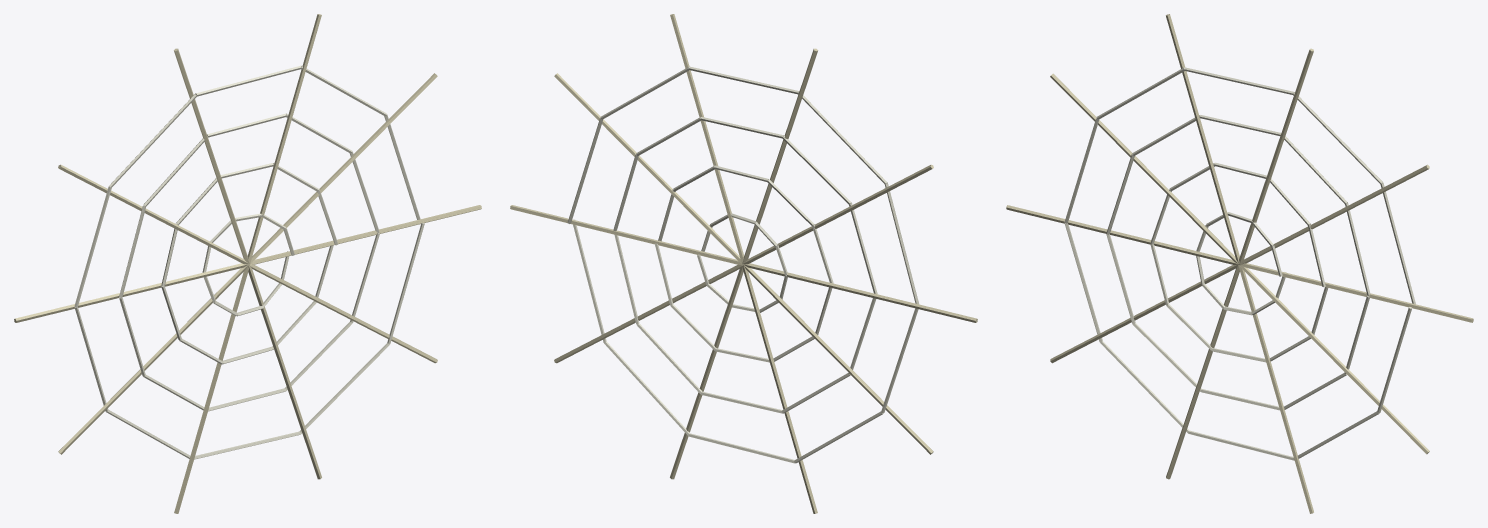
File: spider_web.glb
3 views of the same model, side by side, from view 1: azimuth 30°, elevation 25°; view 2: azimuth 150°, elevation 25°; view 3: azimuth 330°, elevation 25° (orthographic).
Parts seen in each view (by area): view 1: radial_2, radial_1, radial_7, radial_6, radial_0, radial_5, radial_3, radial_8, radial_9, radial_4, strand; view 2: radial_6, radial_1, radial_7, radial_2, radial_5, radial_0, radial_3, radial_8, radial_4, radial_9; view 3: radial_3, radial_8, radial_9, radial_4, radial_0, radial_5, radial_2, radial_7, radial_1, radial_6.
Part boxes in pixels (<box>): radial_2: <box>248,14,321,264</box>; radial_1: <box>250,73,437,264</box>; radial_7: <box>174,264,248,513</box>; radial_6: <box>58,264,248,454</box>; radial_0: <box>249,205,481,265</box>; radial_5: <box>14,263,248,322</box>; radial_3: <box>174,48,249,263</box>; radial_8: <box>248,265,321,479</box>; radial_9: <box>249,264,437,363</box>; radial_4: <box>58,164,249,264</box>; strand: <box>74,186,111,307</box>; radial_6: <box>743,264,933,454</box>; radial_1: <box>554,73,741,264</box>; radial_7: <box>743,264,817,513</box>; radial_2: <box>670,14,743,264</box>; radial_5: <box>743,263,977,322</box>; radial_0: <box>510,205,742,265</box>; radial_3: <box>742,48,817,263</box>; radial_8: <box>670,265,743,479</box>; radial_4: <box>742,164,933,264</box>; radial_9: <box>554,264,742,363</box>; radial_3: <box>1166,14,1239,264</box>; radial_8: <box>1238,265,1313,513</box>; radial_9: <box>1239,265,1429,454</box>; radial_4: <box>1050,73,1238,263</box>; radial_0: <box>1239,263,1473,322</box>; radial_5: <box>1006,205,1238,265</box>; radial_2: <box>1239,48,1313,264</box>; radial_7: <box>1166,264,1239,479</box>; radial_1: <box>1239,164,1429,265</box>; radial_6: <box>1050,264,1237,363</box>.
Bounding box in the file's own units: 1.72 × 1.64 × 0.0415.
Materials: 1 (1 with a texture image).
